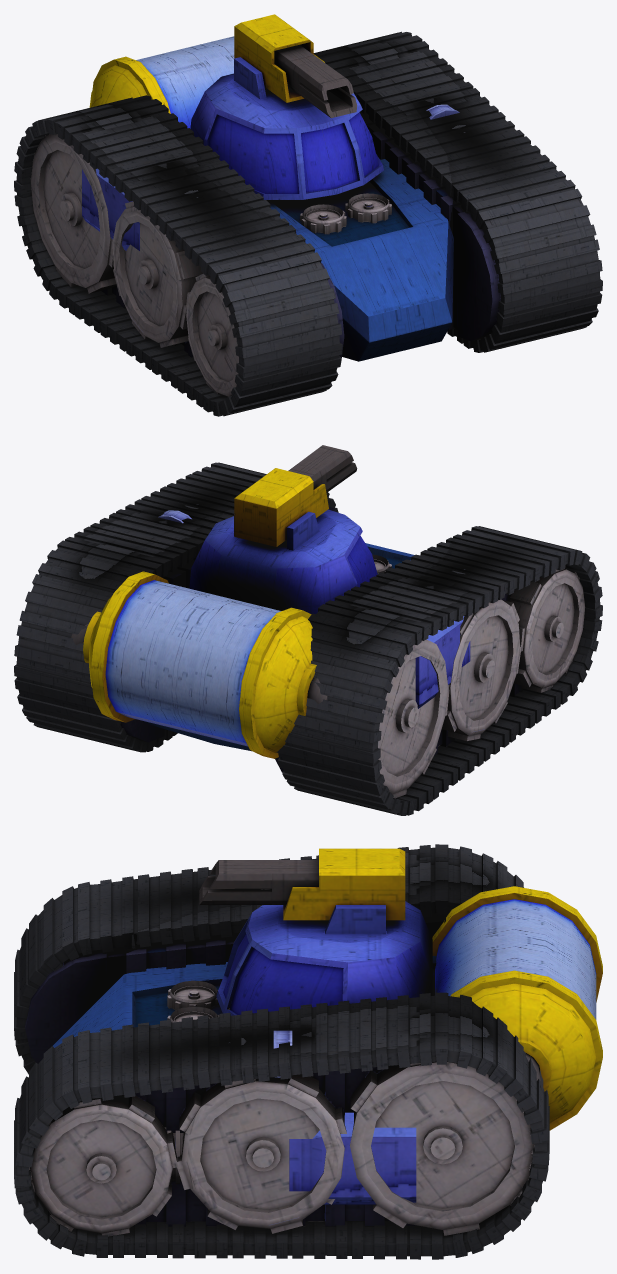
The model's file is PlayerB_die0.obj.
3 renders of one model, top to bottom at view 1: azimuth 30°, elevation 25°; view 2: azimuth 150°, elevation 25°; view 3: azimuth 270°, elevation 25°, orthographic. The views are drawn at different scales.
Parts seen in each view (by area): view 1: Object005; view 2: Object005; view 3: Object005.
Boxes of the visible parts, bbox=[...] form: Object005: bbox=[14, 14, 602, 416]; Object005: bbox=[14, 445, 602, 815]; Object005: bbox=[14, 844, 602, 1259].
Size of the model in its own units: 121 by 82.18 by 147.
Materials: 2 (2 with a texture image).
